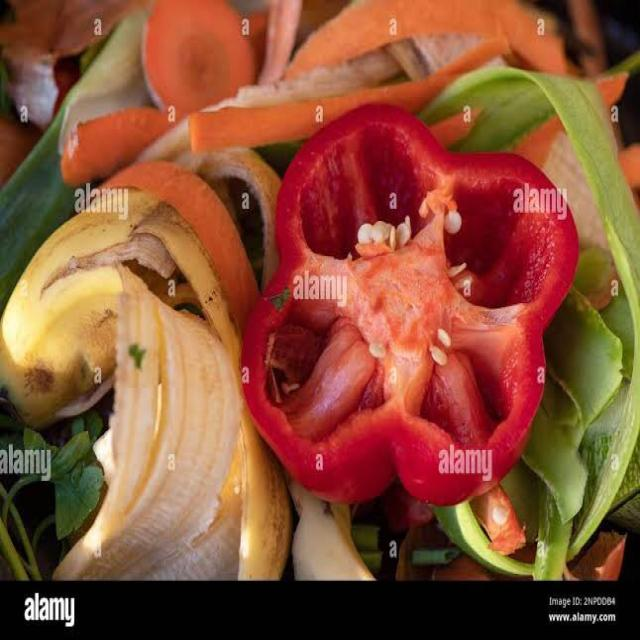organic: (237, 98, 578, 509), (0, 132, 287, 581), (410, 66, 638, 578), (141, 0, 259, 113)
